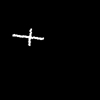single_crochet: (13, 29, 43, 45)
